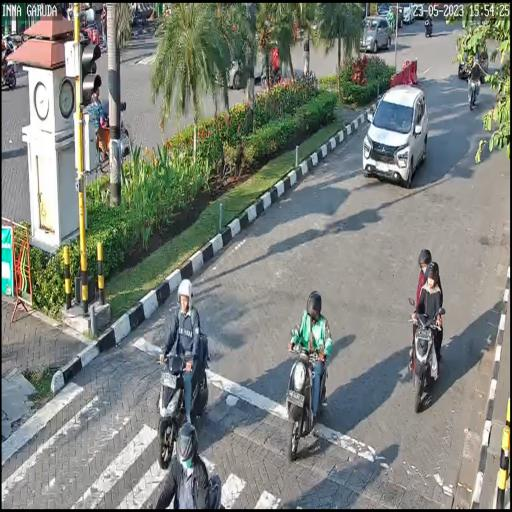mobil: (364, 80, 424, 188)
motor: (154, 329, 215, 469), (286, 318, 332, 458), (407, 286, 445, 416)
